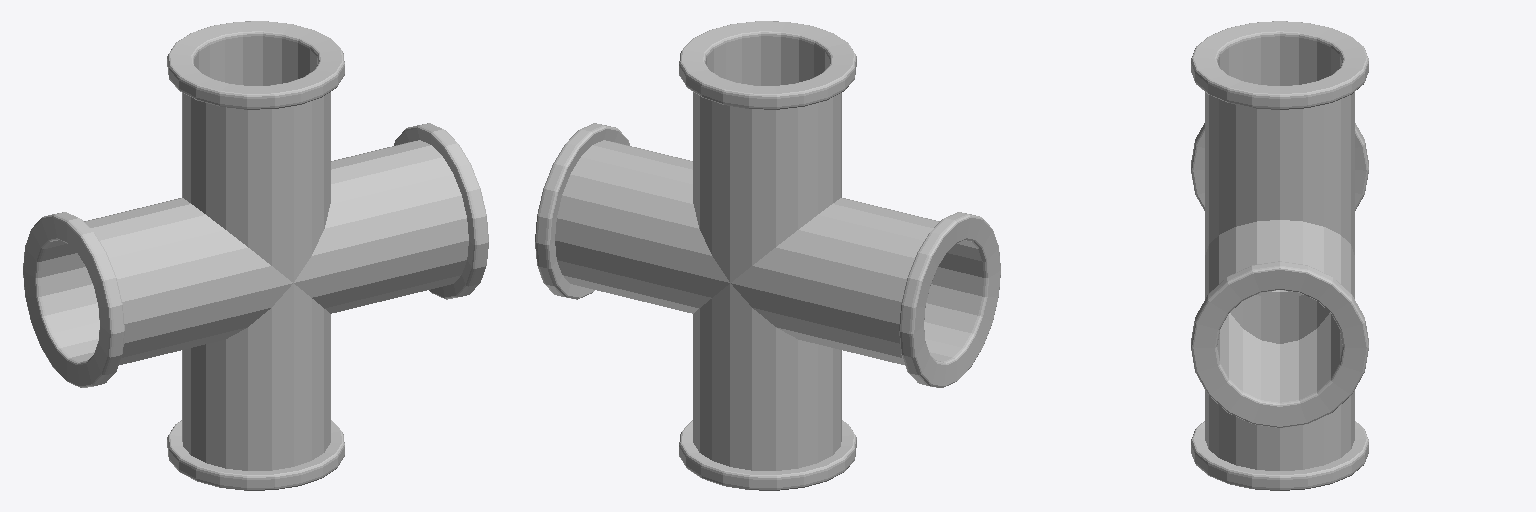
The model's file is pipe_04.obj.
3 views of the same model, side by side, from view 1: azimuth 30°, elevation 25°; view 2: azimuth 150°, elevation 25°; view 3: azimuth 270°, elevation 25° (orthographic).
Parts seen in each view (by area): view 1: pipe_01_Mesh6; view 2: pipe_01_Mesh6; view 3: pipe_01_Mesh6.
Part boxes in pixels (x1,y1,x2,y2): pipe_01_Mesh6: (23, 21, 488, 490); pipe_01_Mesh6: (535, 21, 1000, 490); pipe_01_Mesh6: (1191, 21, 1368, 490).
Size of the model in its own units: 4.19 by 4.19 by 1.71.